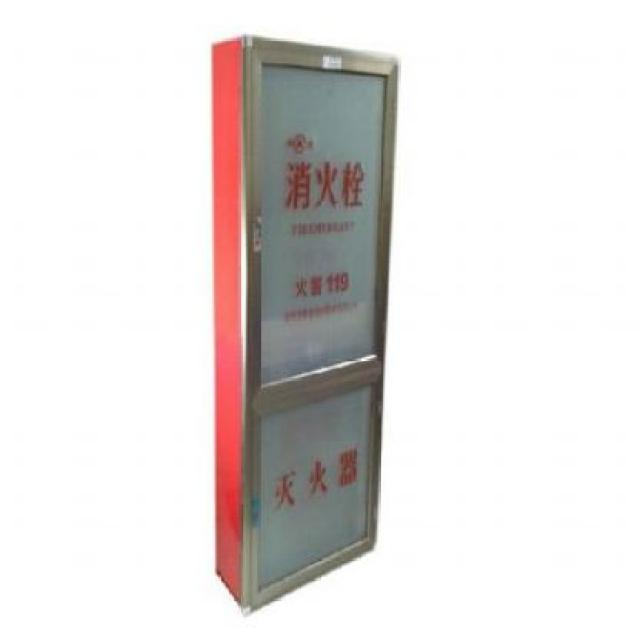firehydrant: (206, 28, 402, 622)
